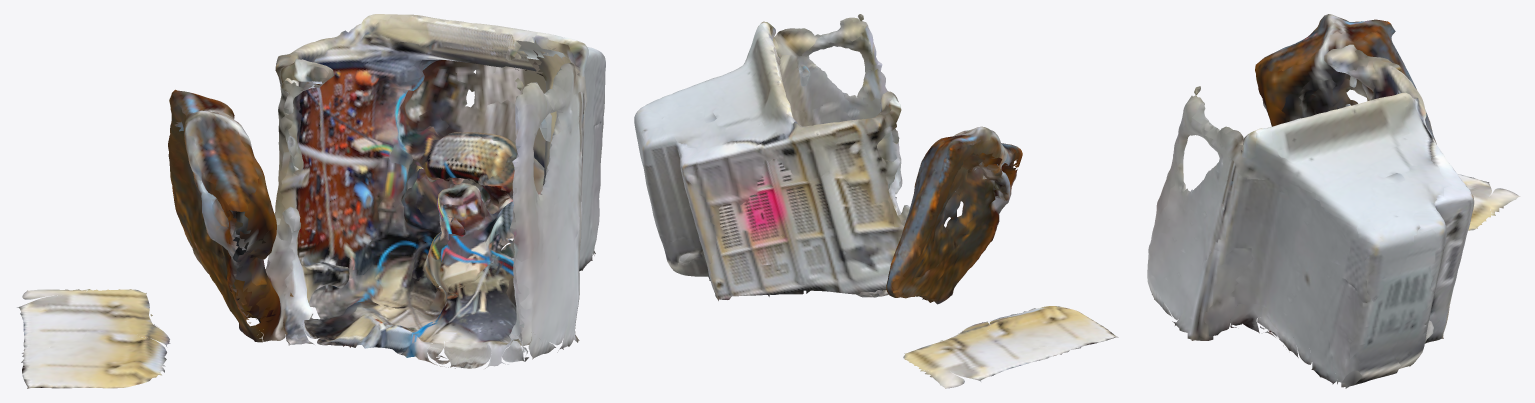
Rendered from compu_destruida.glb.
The picture shows the model from 3 angles, left to right: view 1: azimuth 30°, elevation 25°; view 2: azimuth 150°, elevation 25°; view 3: azimuth 270°, elevation 25°; orthographic projection. The views are drawn at different scales.
Visible parts, largest first — view 1: Object_3; view 2: Object_3; view 3: Object_3.
Boxes of the visible parts, x1,y1,x2,y2 form: Object_3: (17,14,605,388); Object_3: (634,14,1118,388); Object_3: (1147,14,1520,388).
Bounding box in the file's own units: 0.8295 × 0.368 × 0.5246.
Materials: 1 (1 with a texture image).
